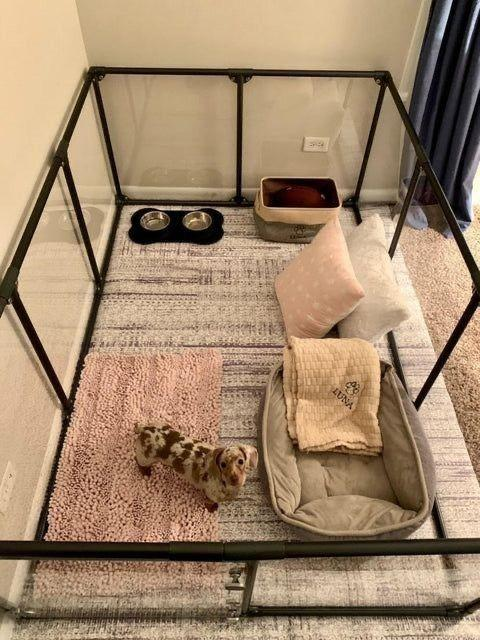puppy-dog: (134, 423, 258, 512)
